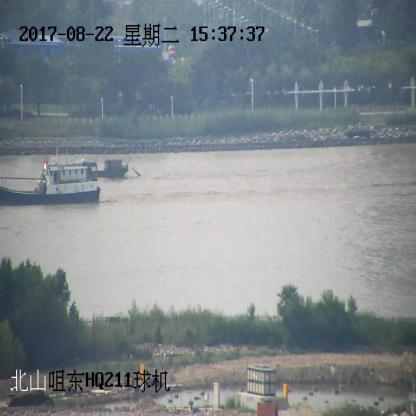Fishing Boat: (0, 159, 103, 205), (87, 160, 142, 179)
